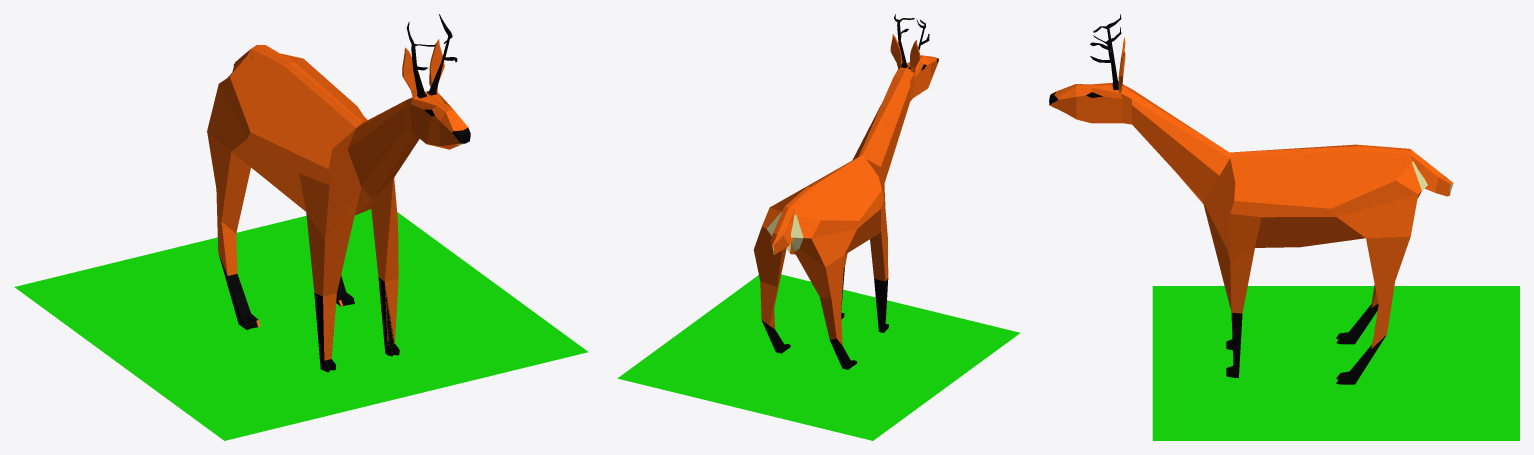
File: Deer.gltf
3 renders of one model, left to right at view 1: azimuth 30°, elevation 25°; view 2: azimuth 150°, elevation 25°; view 3: azimuth 270°, elevation 25°, orthographic. The views are drawn at different scales.
Parts seen in each view (by area): view 1: Plane, Deer; view 2: Plane, Deer; view 3: Plane, Deer.
Part boxes in pixels (x1,y1,x2,y2): Plane: [14, 209, 588, 440]; Deer: [207, 14, 470, 372]; Plane: [617, 274, 1020, 440]; Deer: [753, 14, 938, 369]; Plane: [1152, 286, 1519, 440]; Deer: [1049, 14, 1453, 384].
Bounding box in the file's own units: 5 × 5.15 × 6.41.
